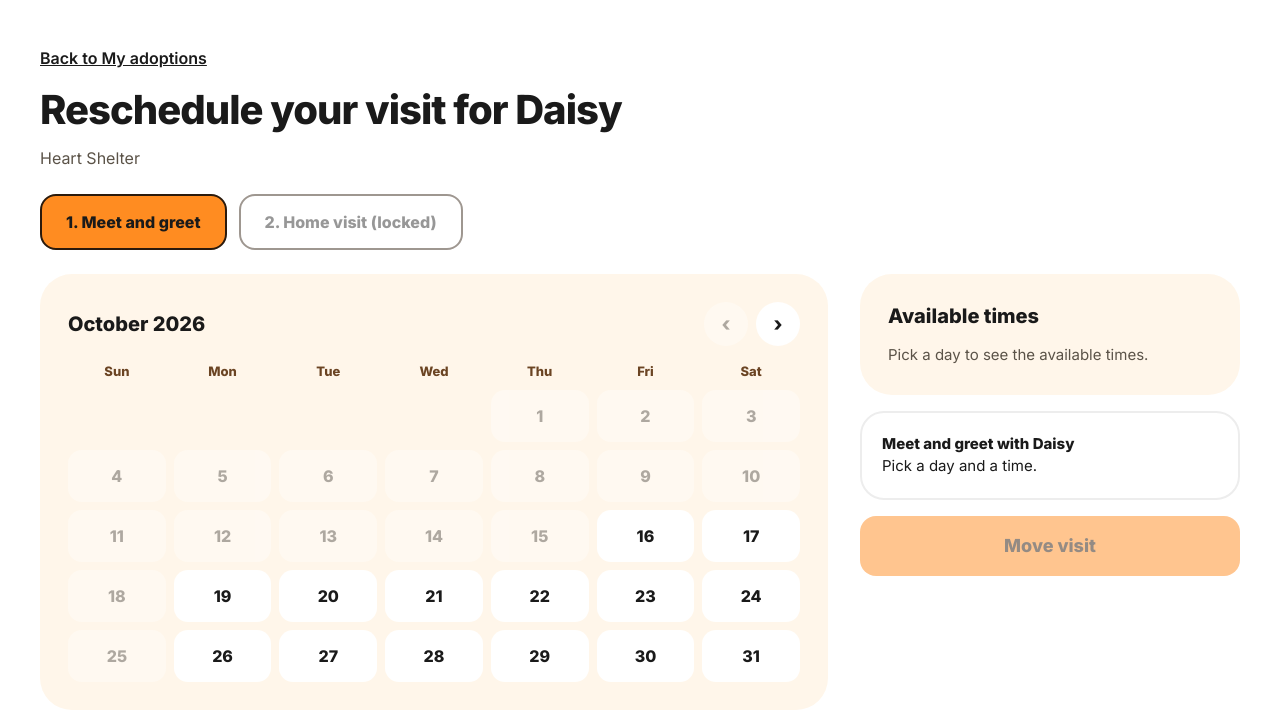
ScheduleVisit › moves an existing visit when opened in reschedule mode
Expected: the heading "Reschedule your visit for Daisy" is shown, x1=40 y1=85 x2=622 y2=134
Click the button named "Monday, October 19" at (223, 596), box x1=174 y1=570 x2=271 y2=622
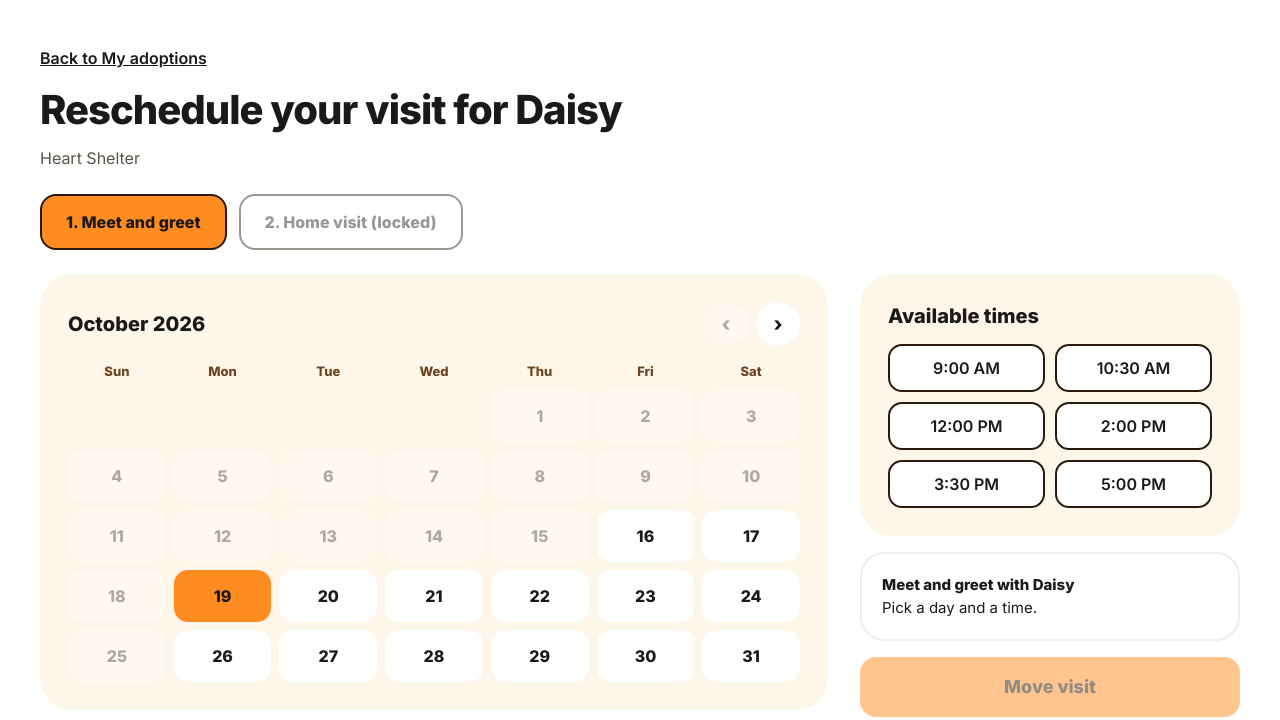
Click the button "10:30 AM" at (1134, 368), box x1=1055 y1=344 x2=1212 y2=392
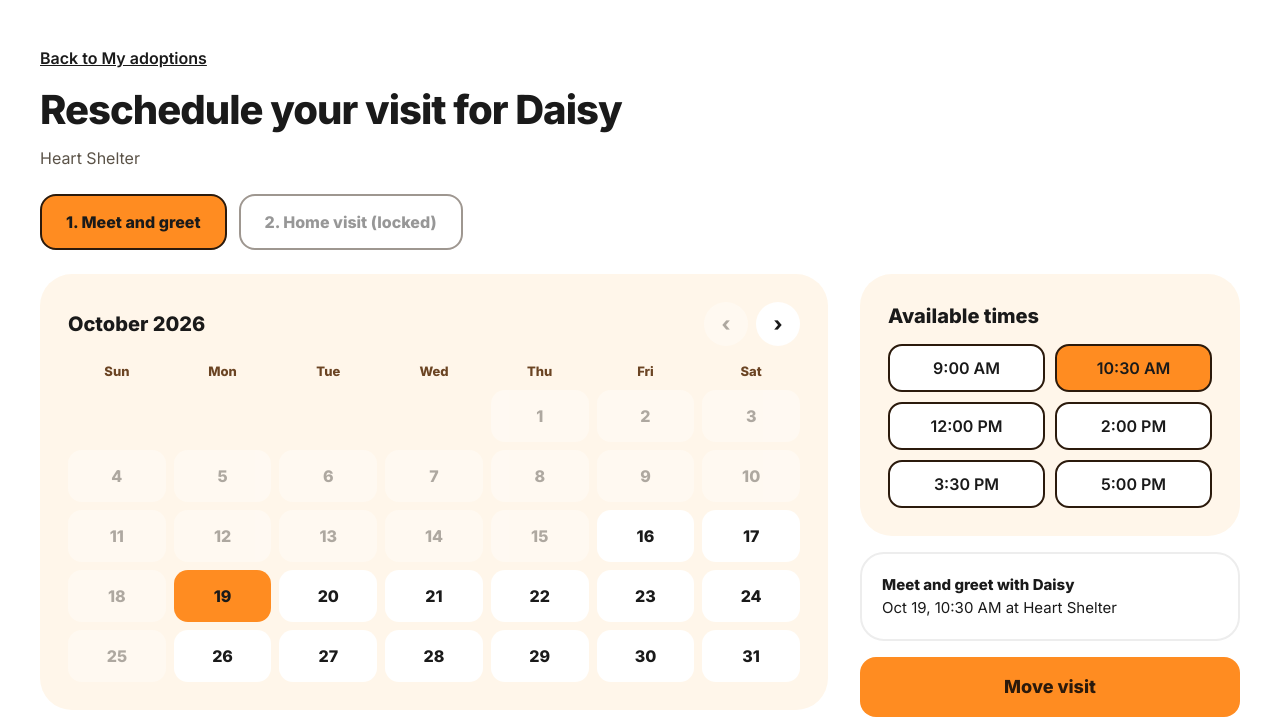
Click the button "Move visit" at (1050, 687), box x1=860 y1=657 x2=1240 y2=717
(page scrolled)
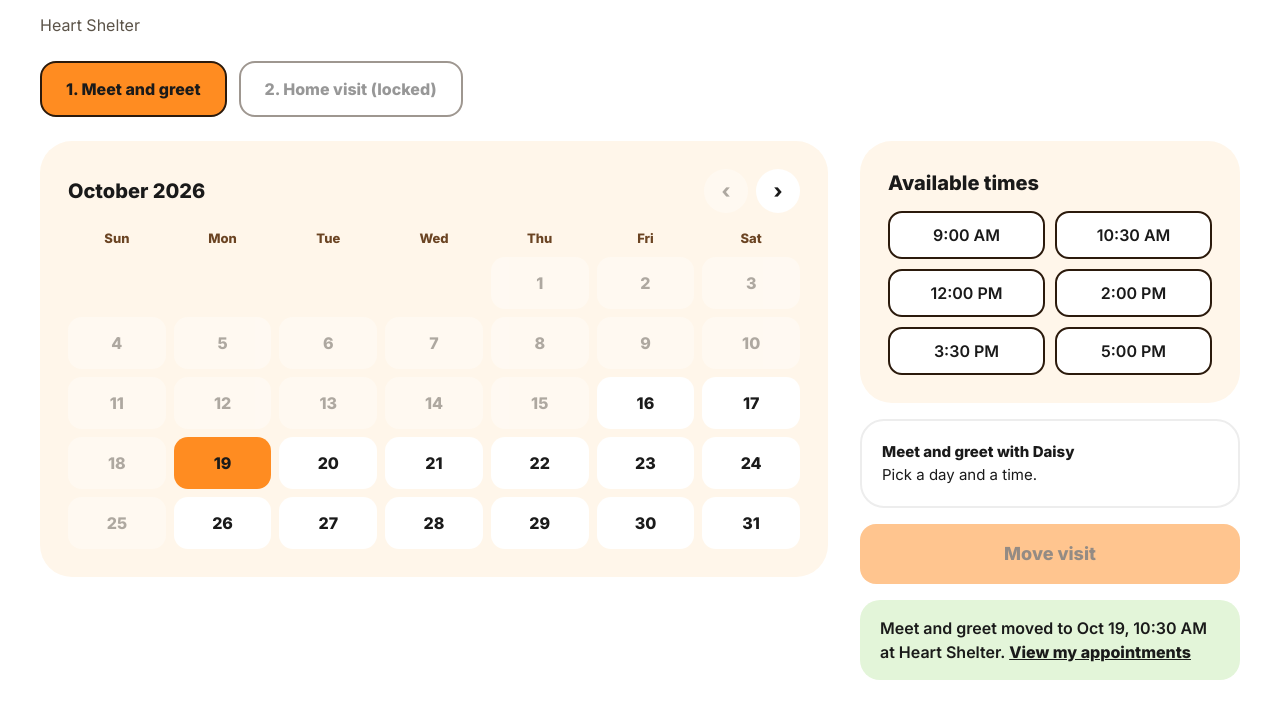
Expected: the text "Meet and greet moved to Oct 19, 10:30 AM at Heart Shelter" is shown, x1=880 y1=618 x2=1207 y2=662
